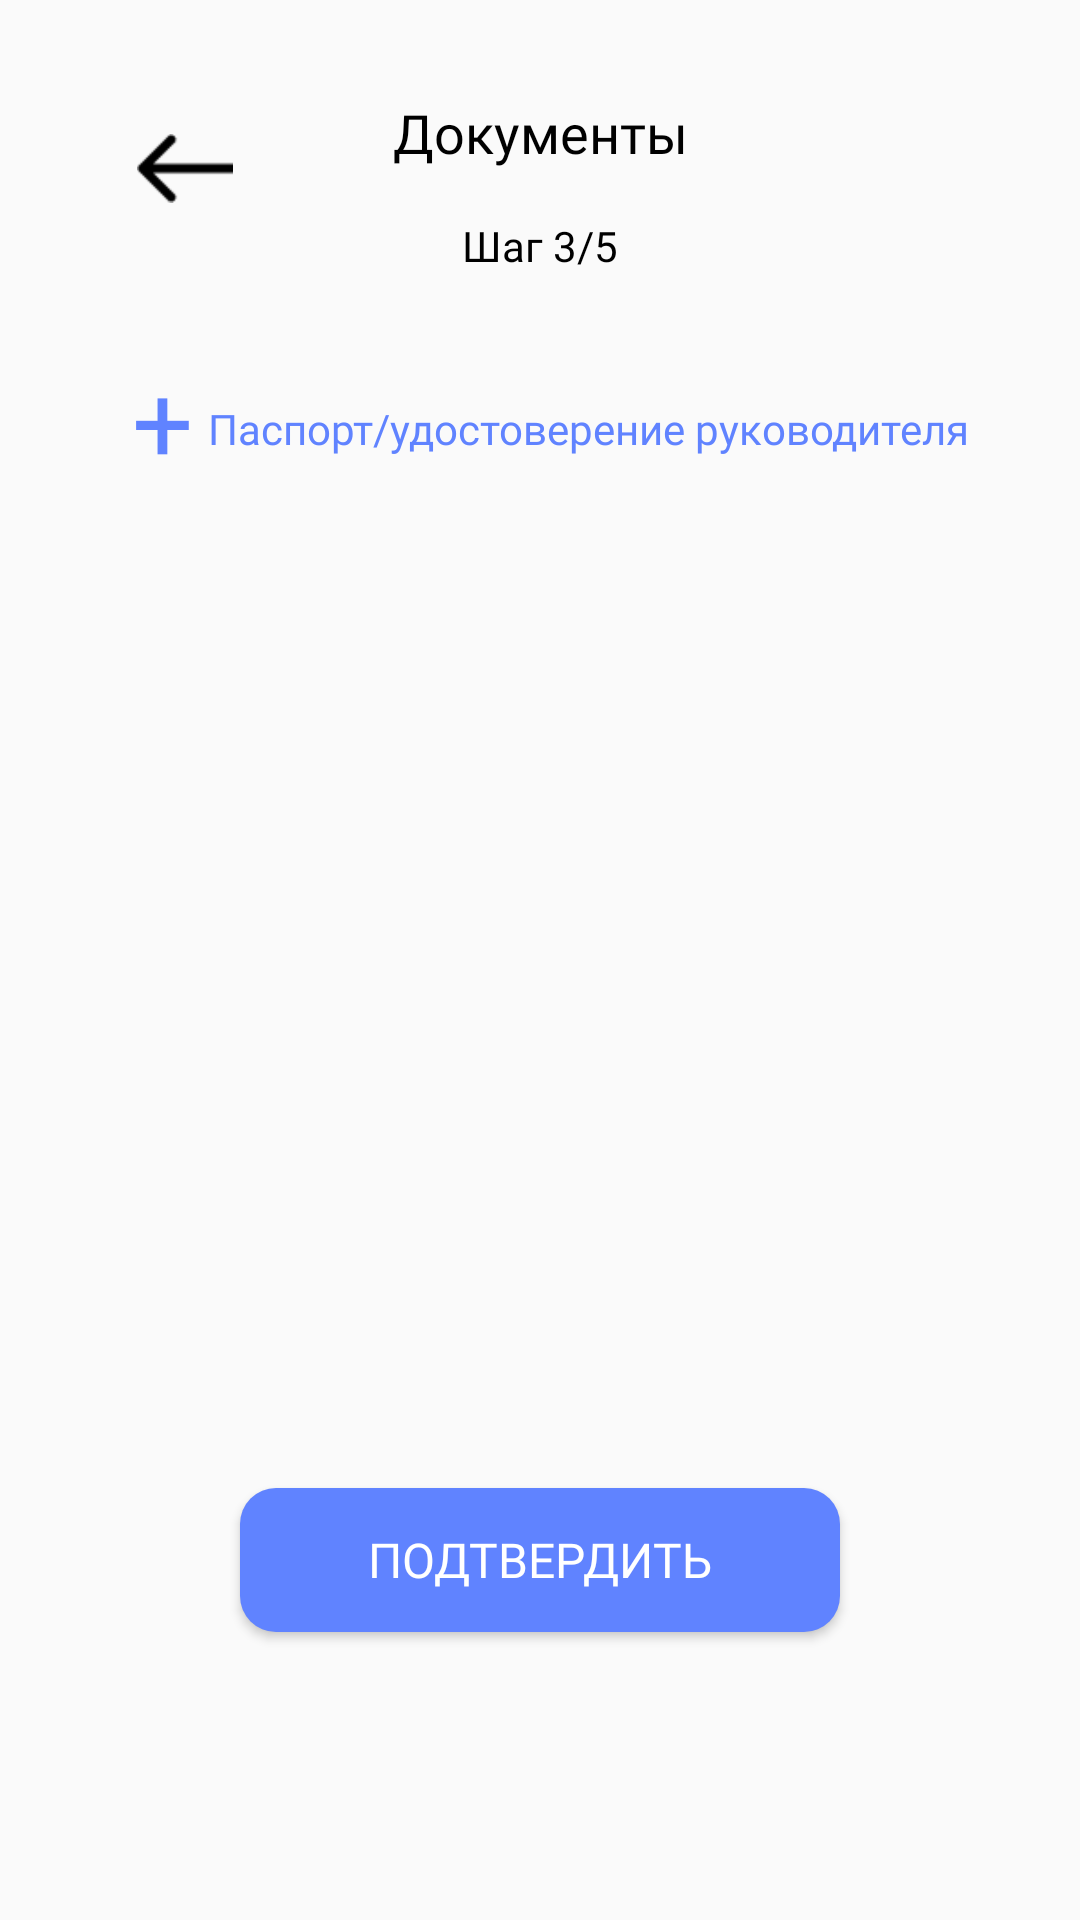

Point at icon controls on the screen. Image size 1080px x 1920px, points as [x,y].
Выйти: [185,168]
